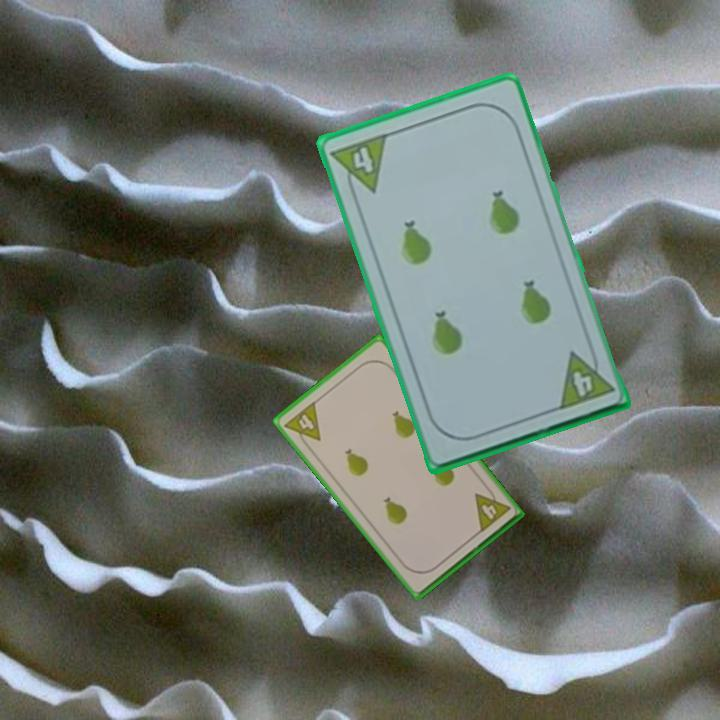4p: (327, 129, 390, 202), (554, 343, 617, 412), (281, 398, 324, 452), (471, 483, 513, 535)
